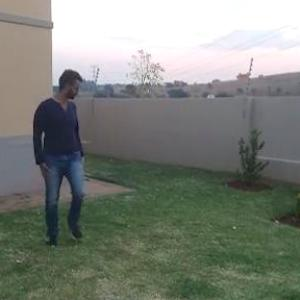follow: (29, 66, 91, 247)
